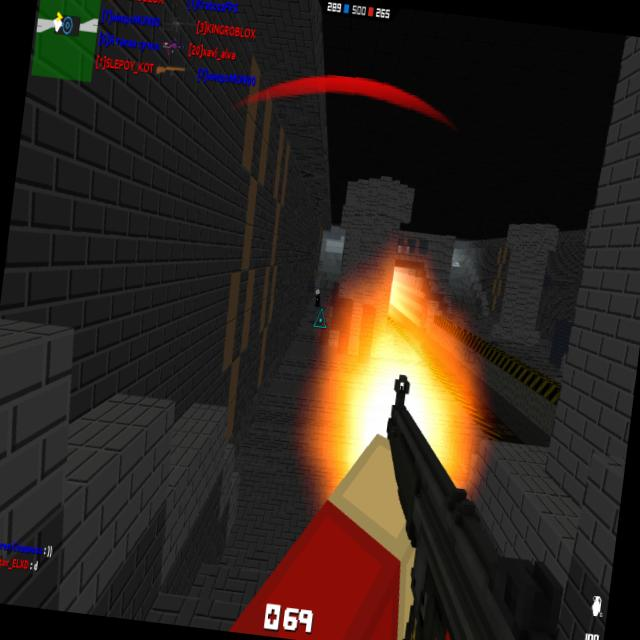enemy: (312, 287, 322, 308)
